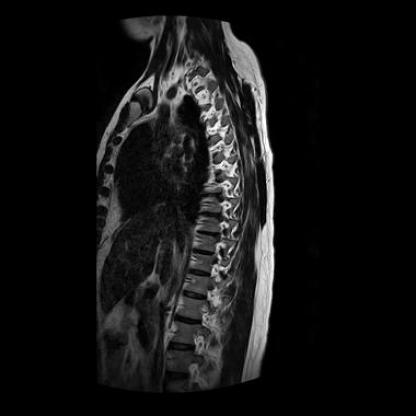Demyelinating Plaquesrotation: (199, 209, 220, 221), (199, 136, 219, 146)
Hemangiomatarotation: (188, 253, 214, 272), (195, 125, 217, 138)
